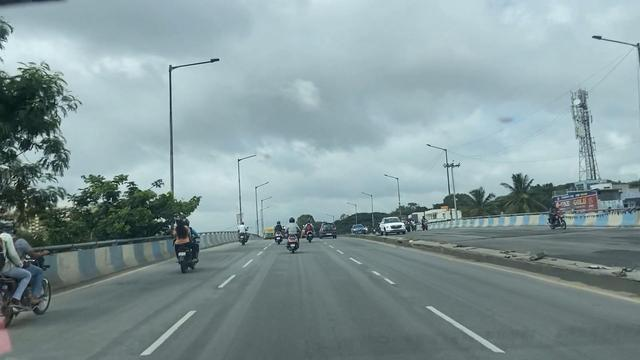LMV: (177, 218, 197, 274), (287, 218, 301, 251), (320, 221, 341, 238), (237, 222, 249, 246), (273, 221, 284, 244), (306, 220, 317, 240)
